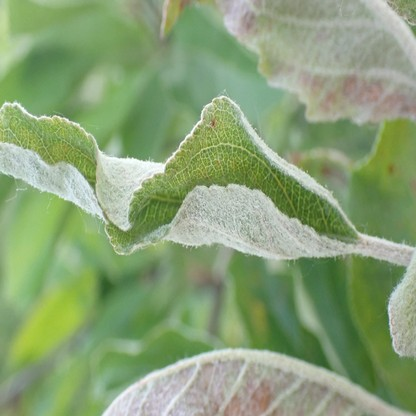powdery_mildew: (1, 95, 357, 260), (213, 1, 416, 122), (102, 350, 381, 416), (388, 251, 416, 355)
